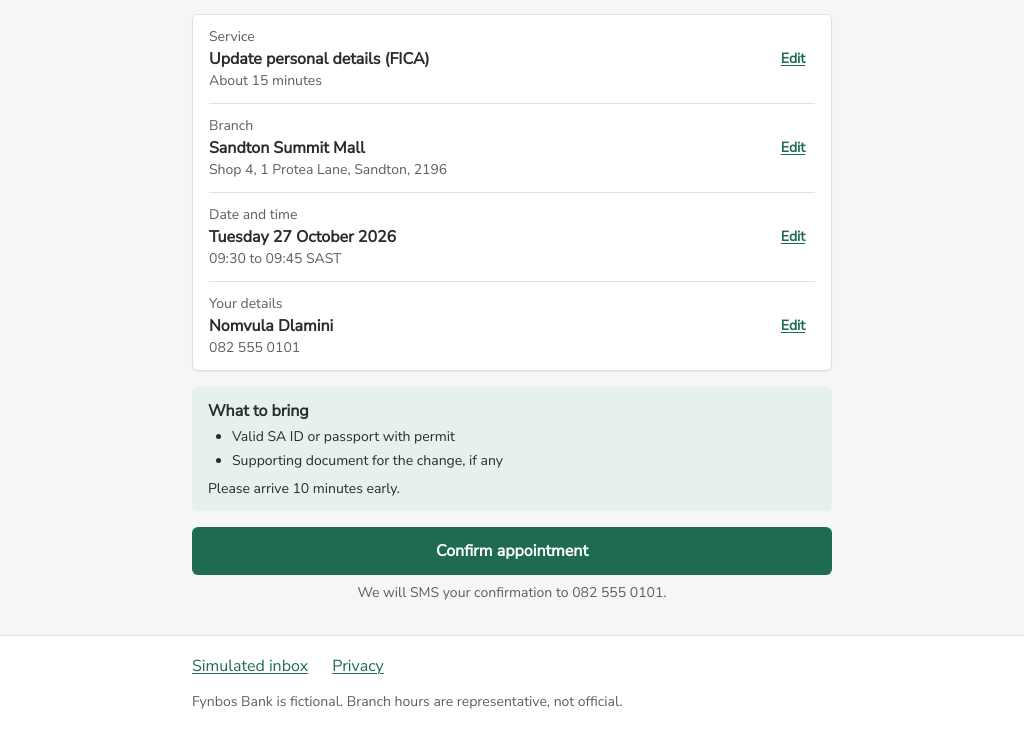
it: the WAF CAPTCHA, when booking › treats a challenge with no CAPTCHA configured as an ordinary failure, showing no puzzle
(page scrolled)
Click the button "Confirm appointment".
click(512, 551)  # box x1=192 y1=527 x2=832 y2=575
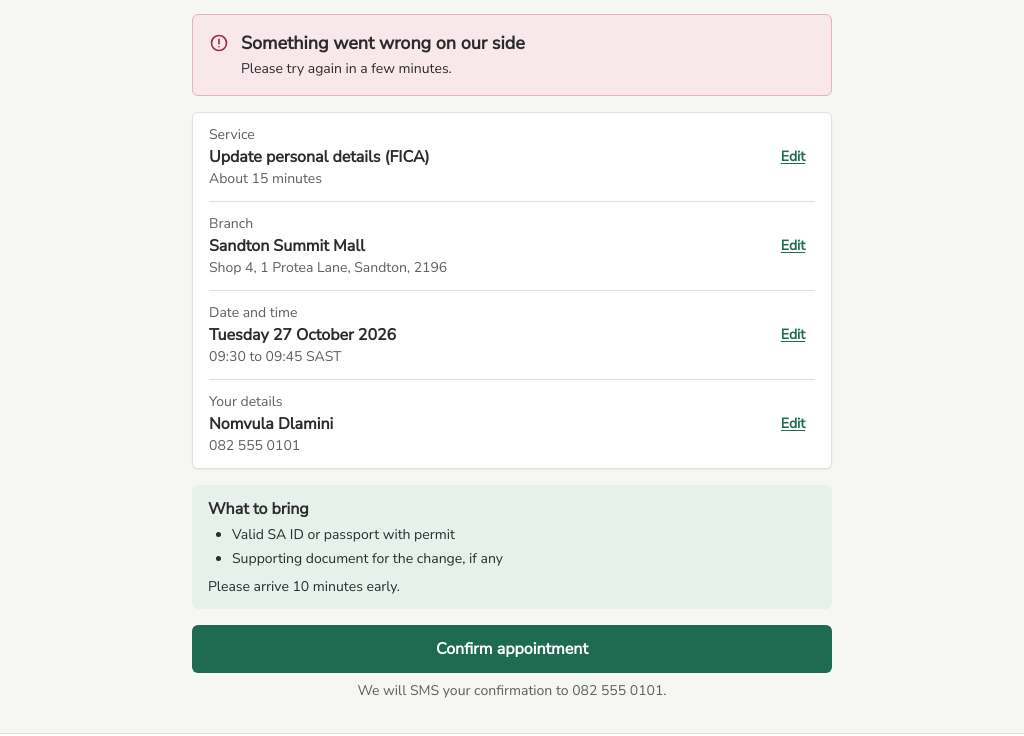
Check: the message shows "Something went wrong on our side", box x1=241 y1=31 x2=525 y2=55
